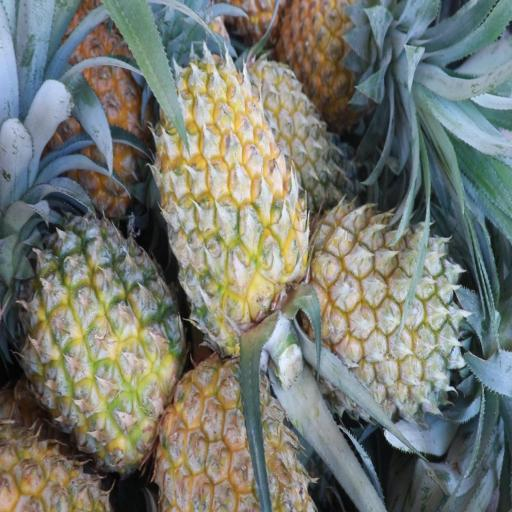------------------------------: (14, 212, 188, 484)
Pineapple - v8 v1: (144, 31, 310, 366), (305, 203, 475, 428), (277, 0, 424, 144)
